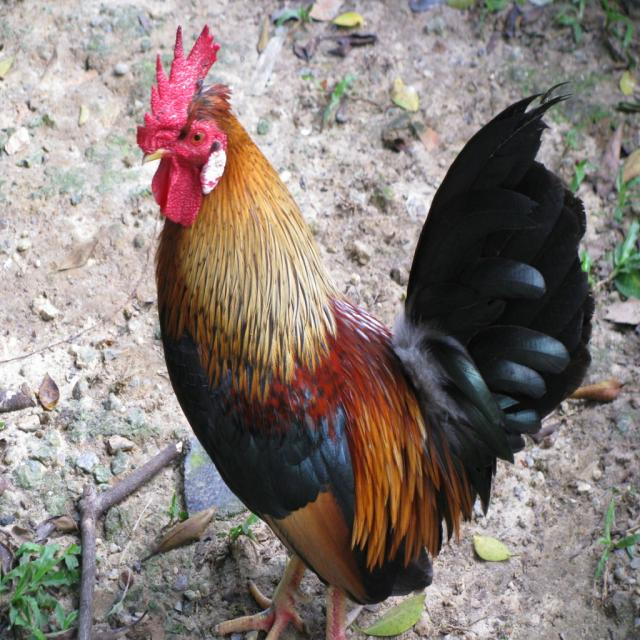Chicken: (141, 15, 590, 639)
